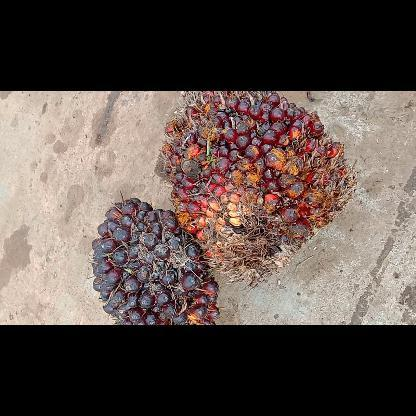TBS masak: (158, 91, 356, 287)
TBS mentah: (91, 191, 219, 324)
